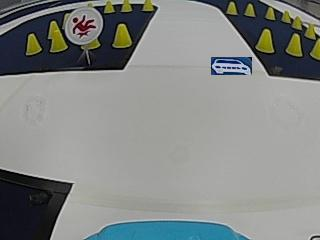cone: (112, 22, 132, 48), (255, 28, 274, 54), (48, 27, 66, 52), (285, 33, 302, 56), (24, 32, 41, 55), (310, 39, 319, 60), (225, 1, 237, 15), (244, 2, 255, 17), (305, 23, 315, 39), (103, 0, 114, 14), (265, 6, 275, 21), (121, 0, 132, 13), (142, 0, 154, 11), (281, 9, 290, 23), (292, 15, 301, 29)
tumble: (69, 10, 100, 40)
